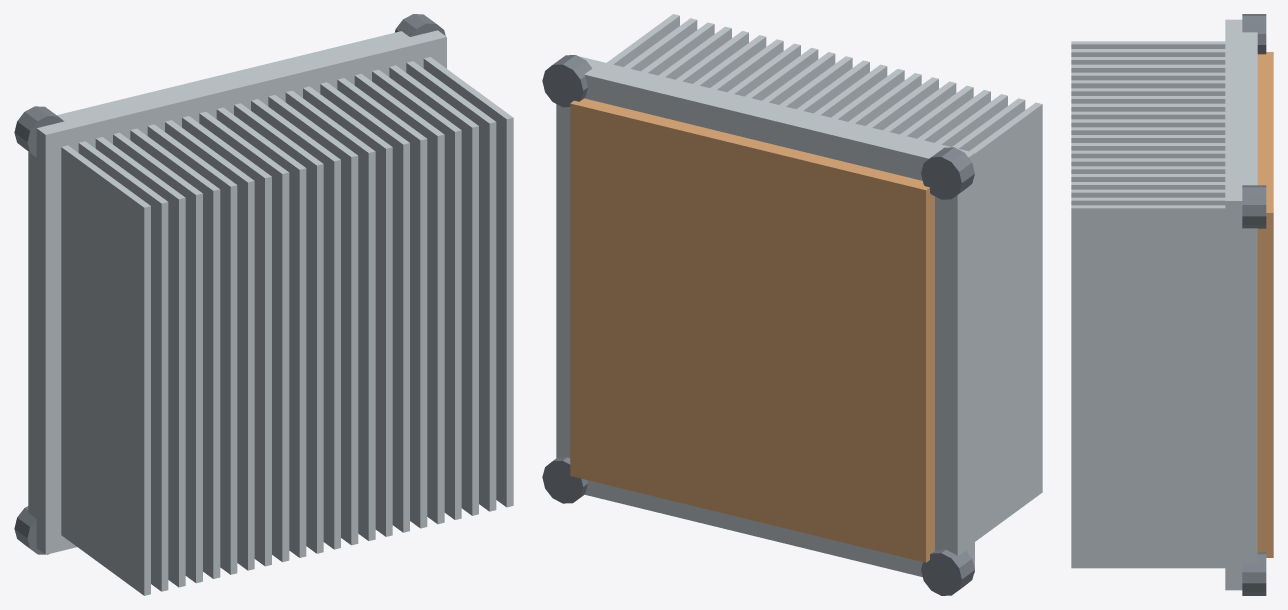
Rendered from 126_L109_CPU_RemovableHeatsink.glb.
3 views of the same model, side by side, from view 1: azimuth 30°, elevation 25°; view 2: azimuth 150°, elevation 25°; view 3: azimuth 270°, elevation 25° (orthographic). The views are drawn at different scales.
Visible parts, largest first — view 1: L109_CPU_RemovableHeatsink_ALUMINUM, L109_CPU_RemovableHeatsink_DARK_METAL; view 2: L109_CPU_RemovableHeatsink_COPPER, L109_CPU_RemovableHeatsink_ALUMINUM, L109_CPU_RemovableHeatsink_DARK_METAL; view 3: L109_CPU_RemovableHeatsink_ALUMINUM, L109_CPU_RemovableHeatsink_COPPER, L109_CPU_RemovableHeatsink_DARK_METAL.
Part boxes in pixels (x1,y1,x2,y2): L109_CPU_RemovableHeatsink_ALUMINUM: (28,30,513,595); L109_CPU_RemovableHeatsink_DARK_METAL: (14,14,445,554); L109_CPU_RemovableHeatsink_COPPER: (570,98,934,562); L109_CPU_RemovableHeatsink_ALUMINUM: (556,14,1042,576); L109_CPU_RemovableHeatsink_DARK_METAL: (542,55,974,595); L109_CPU_RemovableHeatsink_ALUMINUM: (1071,19,1257,590); L109_CPU_RemovableHeatsink_COPPER: (1257,52,1273,557); L109_CPU_RemovableHeatsink_DARK_METAL: (1242,14,1266,595).
Size of the model in its own units: 55.4 by 55.4 by 25.
